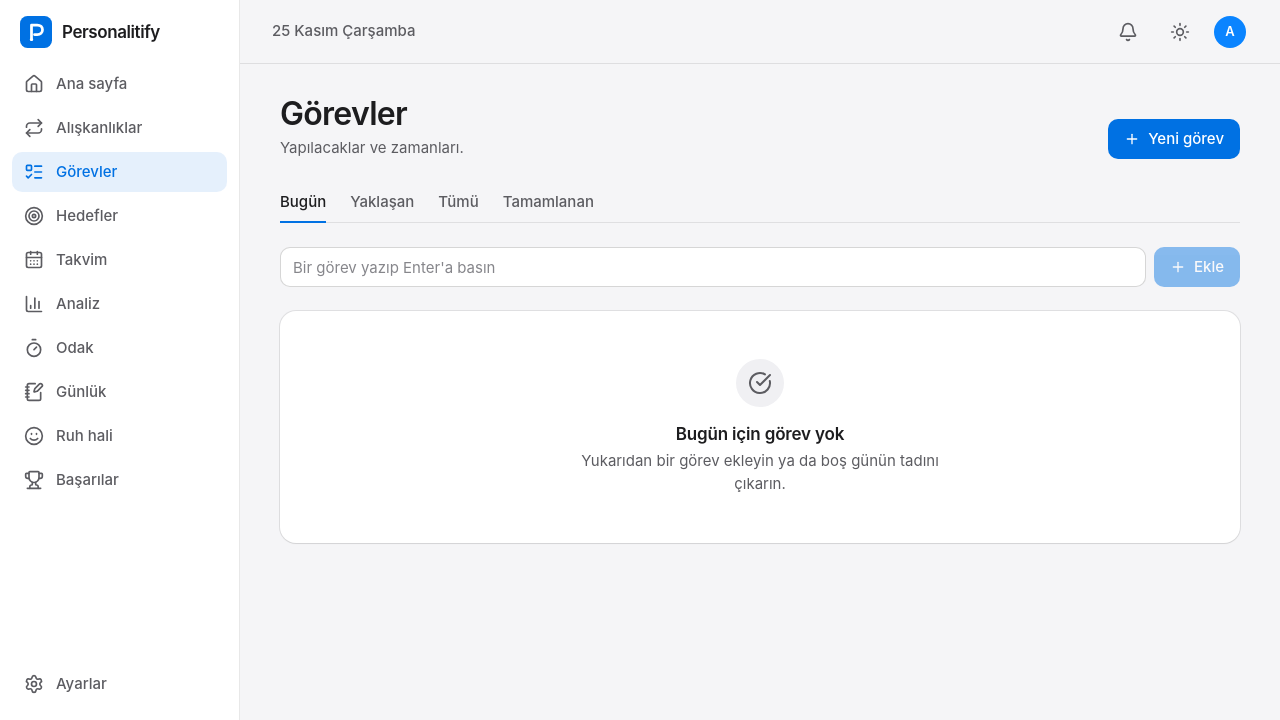
Test case: tasks › adds a task for today from the quick add field
Expected: the heading "Bugün için görev yok" is shown, [676,423,844,446]
Type "Süt al" into the field named "Yeni görev" at (713, 267), box [280,247,1146,287]
Then press Enter
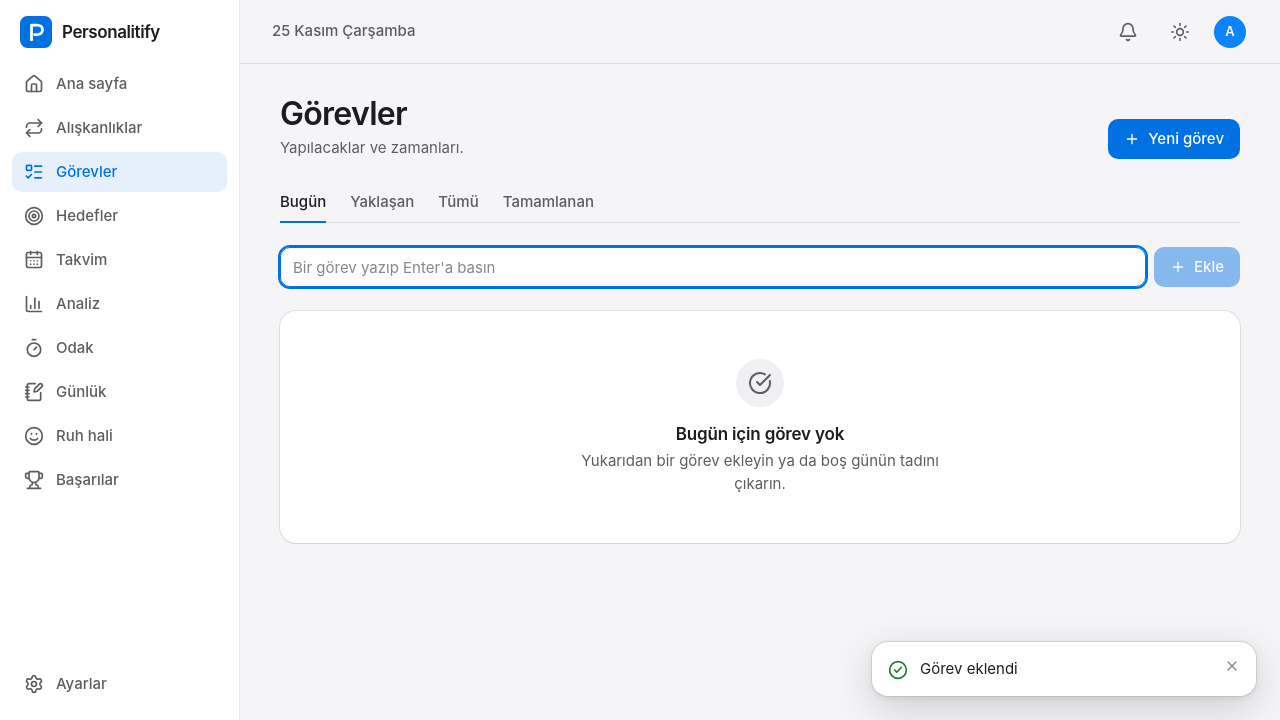
Result: the text "Görev eklendi" is shown at [920,658,1018,678]
